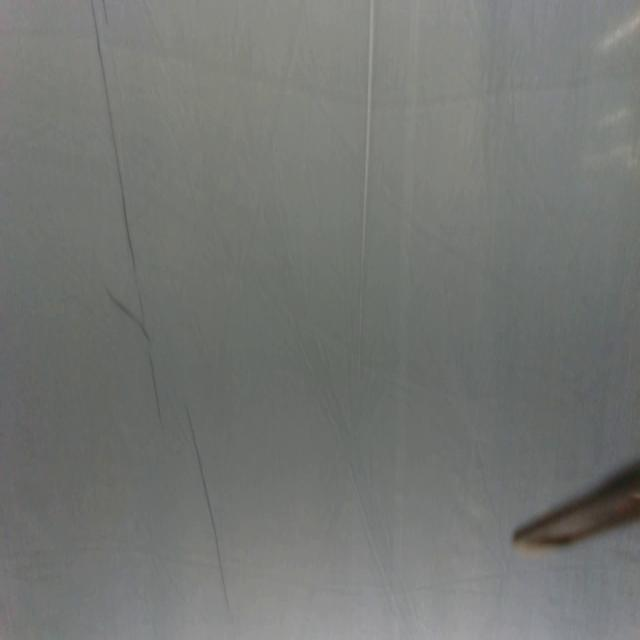crease: (90, 0, 162, 427), (185, 403, 230, 613), (356, 0, 375, 407), (102, 284, 150, 339)
